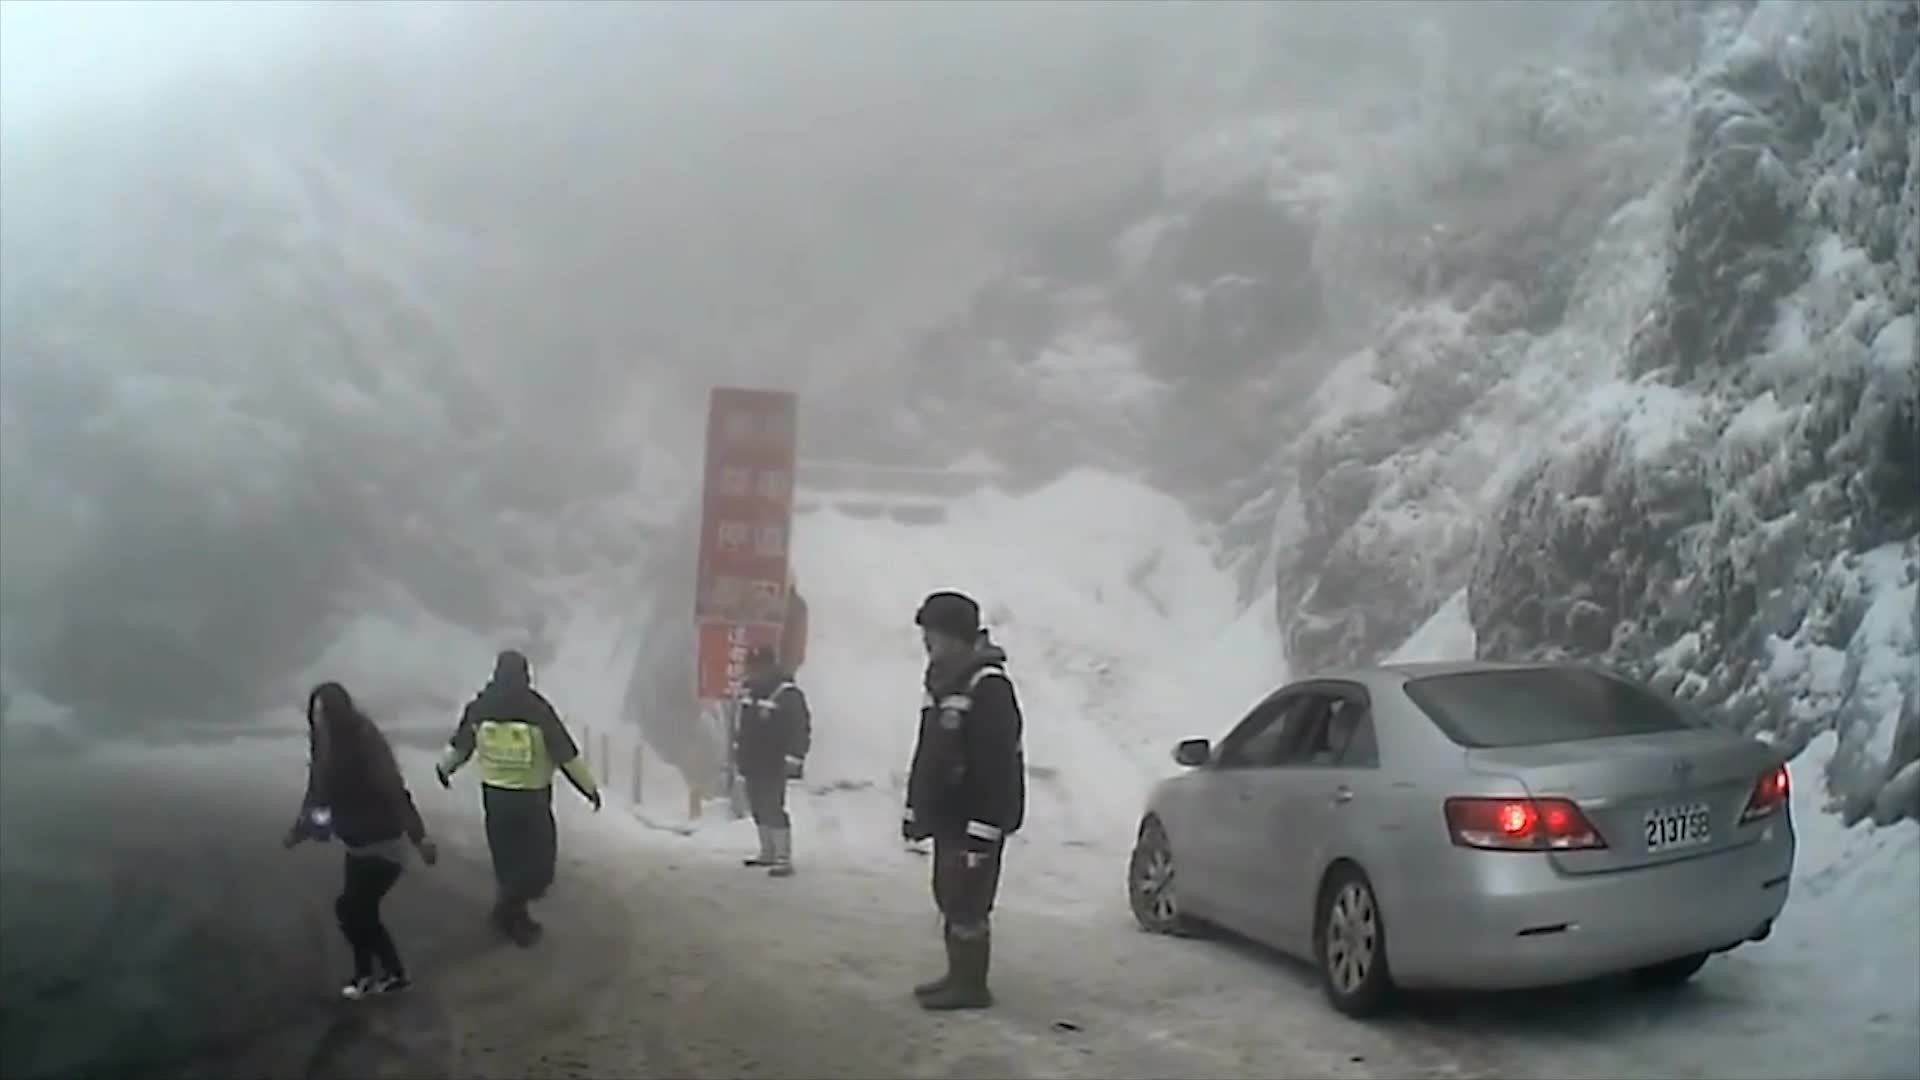pedestrian: (890, 585, 1033, 1019), (275, 678, 443, 999), (443, 650, 601, 939), (731, 638, 819, 879), (746, 567, 812, 743)
vehicle: (1125, 659, 1798, 1015)
